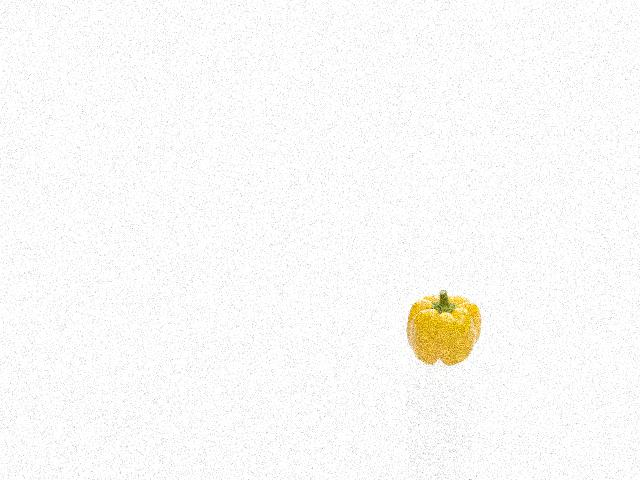bell_pepper: (407, 287, 486, 367)
